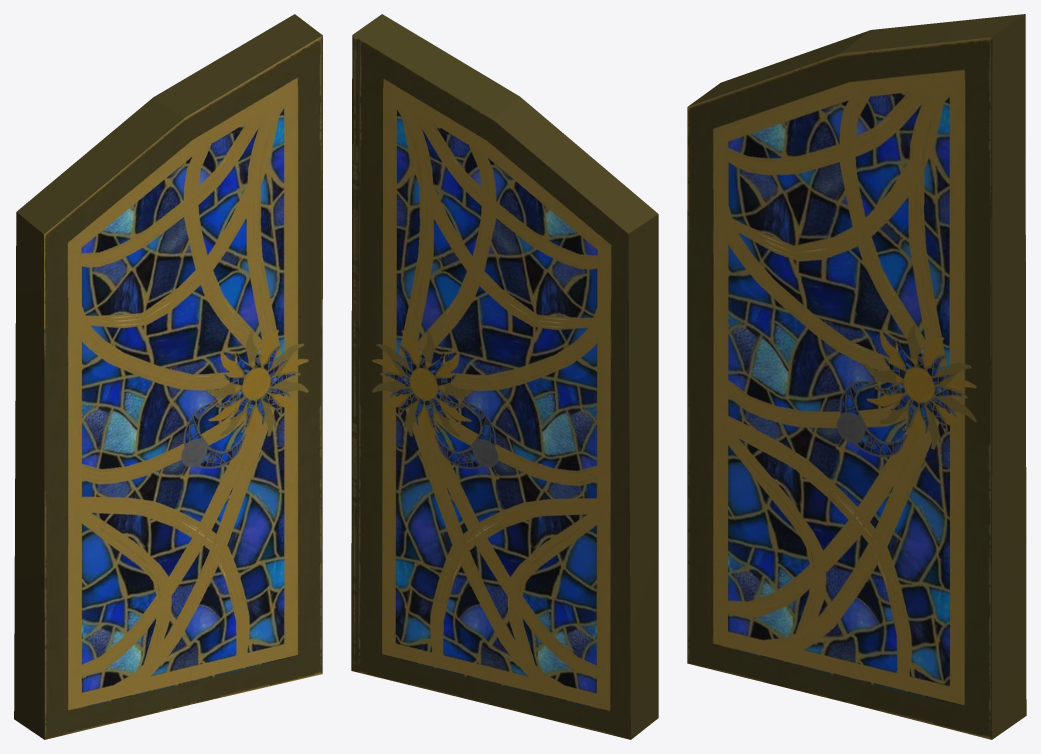
The model's file is doorRightCompressed.glb.
The picture shows the model from 3 angles, left to right: view 1: azimuth 30°, elevation 25°; view 2: azimuth 150°, elevation 25°; view 3: azimuth 330°, elevation 25°; orthographic projection. The views are drawn at different scales.
Visible parts, largest first — view 1: doorLP.002; view 2: doorLP.002; view 3: doorLP.002.
Part boxes in pixels (x1,y1,x2,y2): doorLP.002: (14,14,322,739); doorLP.002: (351,14,658,739); doorLP.002: (687,14,1026,739).
Size of the model in its own units: 0.8523 by 1.85 by 0.158.
1 material, 1 textured.
